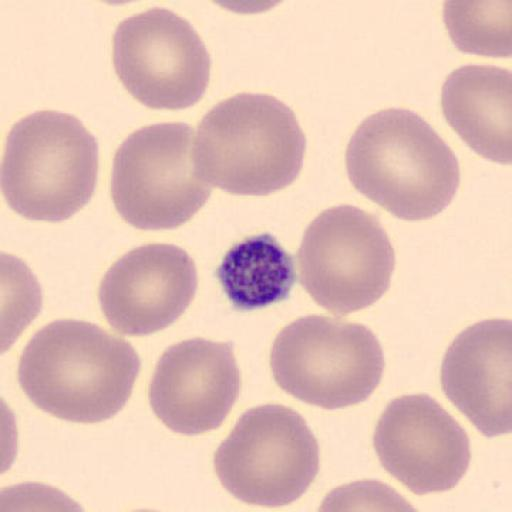Platelet: (212, 230, 301, 313)
RBC: (342, 104, 463, 224), (15, 316, 143, 426), (190, 90, 308, 199), (108, 119, 218, 234), (211, 400, 322, 510), (266, 312, 388, 412), (294, 200, 397, 318), (0, 106, 101, 225), (110, 4, 213, 114), (370, 390, 473, 496), (96, 239, 200, 339), (146, 335, 242, 438), (439, 316, 512, 440), (438, 60, 512, 166), (2, 249, 44, 356), (441, 0, 512, 61), (312, 476, 430, 512), (1, 478, 94, 512), (199, 0, 299, 17), (1, 391, 20, 478), (112, 503, 181, 512)
